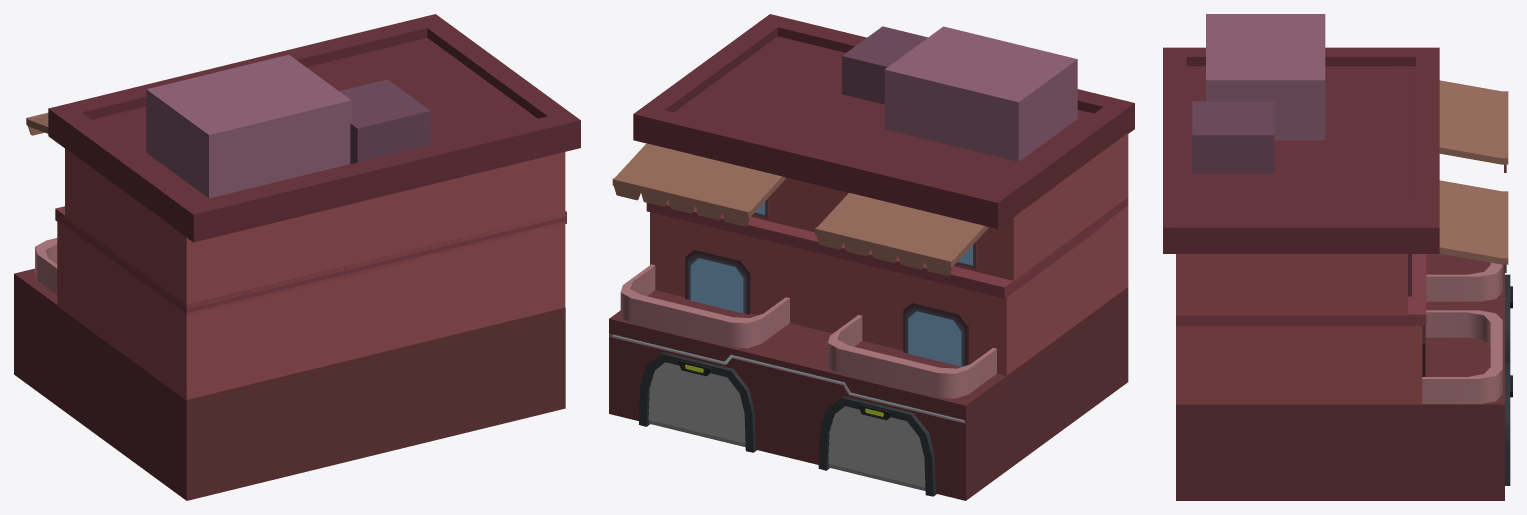
The model's file is SouthWest_House_07.fbx.
The picture shows the model from 3 angles, left to right: view 1: azimuth 30°, elevation 25°; view 2: azimuth 150°, elevation 25°; view 3: azimuth 270°, elevation 25°; orthographic projection. The views are drawn at different scales.
Visible parts, largest first — view 1: SouthWest_House_07; view 2: SouthWest_House_07; view 3: SouthWest_House_07.
Part boxes in pixels (x1,y1,x2,y2): SouthWest_House_07: (14,14,580,500); SouthWest_House_07: (609,14,1134,500); SouthWest_House_07: (1163,14,1512,500).
Bounding box in the file's own units: 28.5 × 24.35 × 23.41.
Materials: 2 (2 with a texture image).
